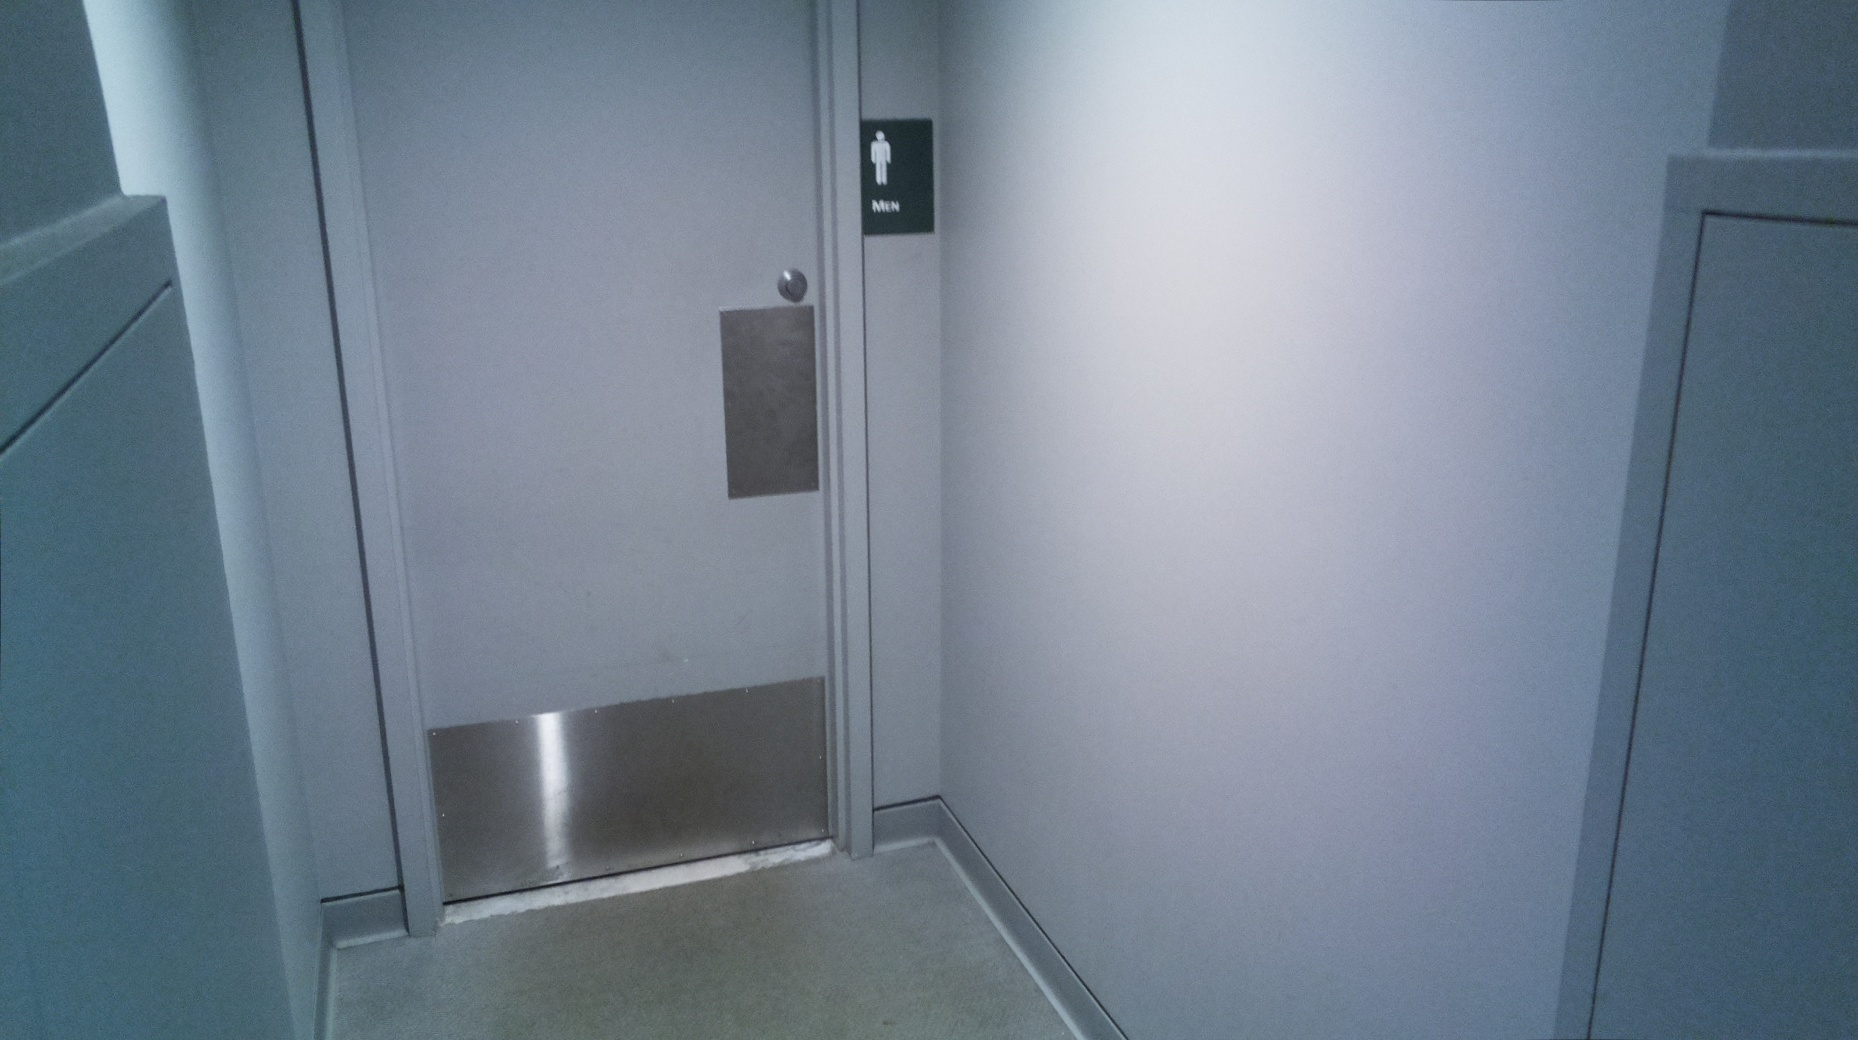bathroom sign: (856, 114, 939, 241)
